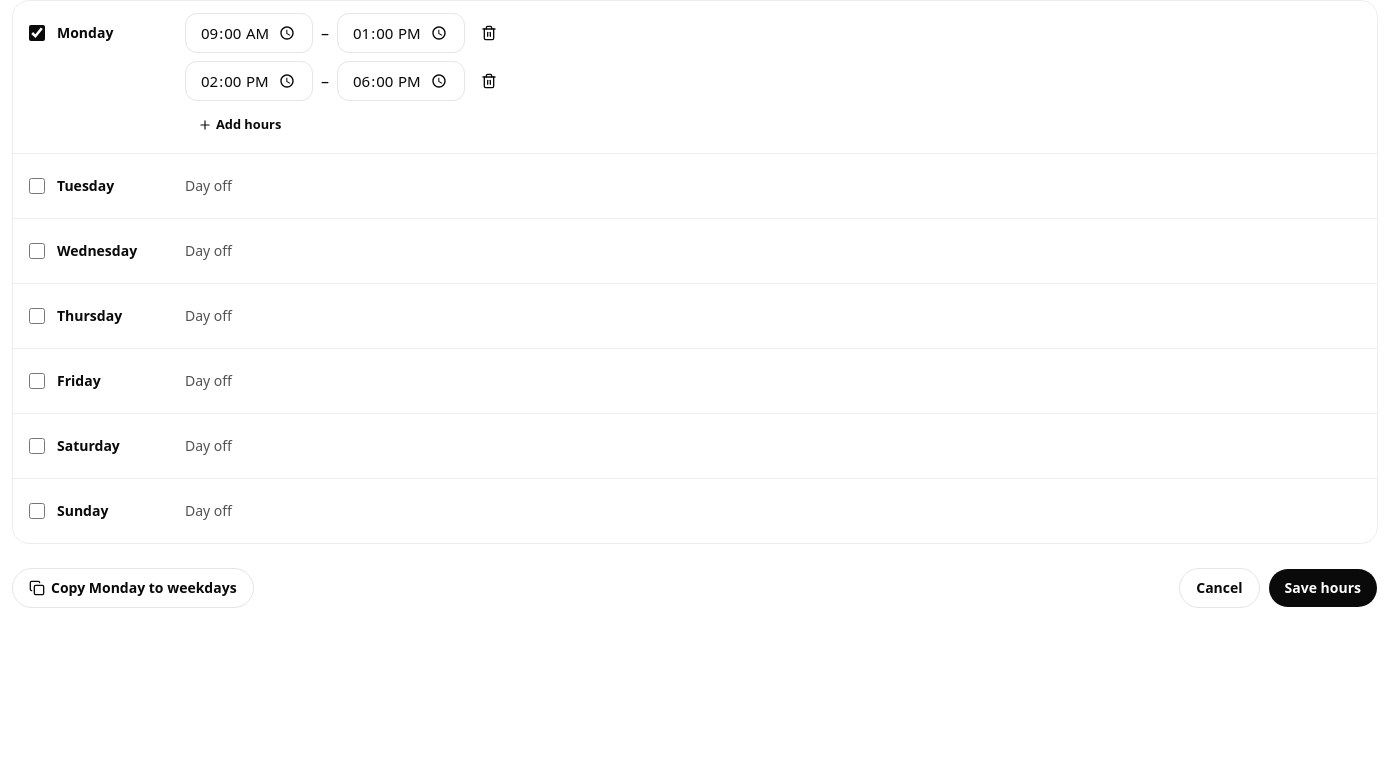
Test: WorkScheduleForm › shows the field message from a 400 response
Click the button "Save hours" at [1323, 588], box [1268,568,1378,608]
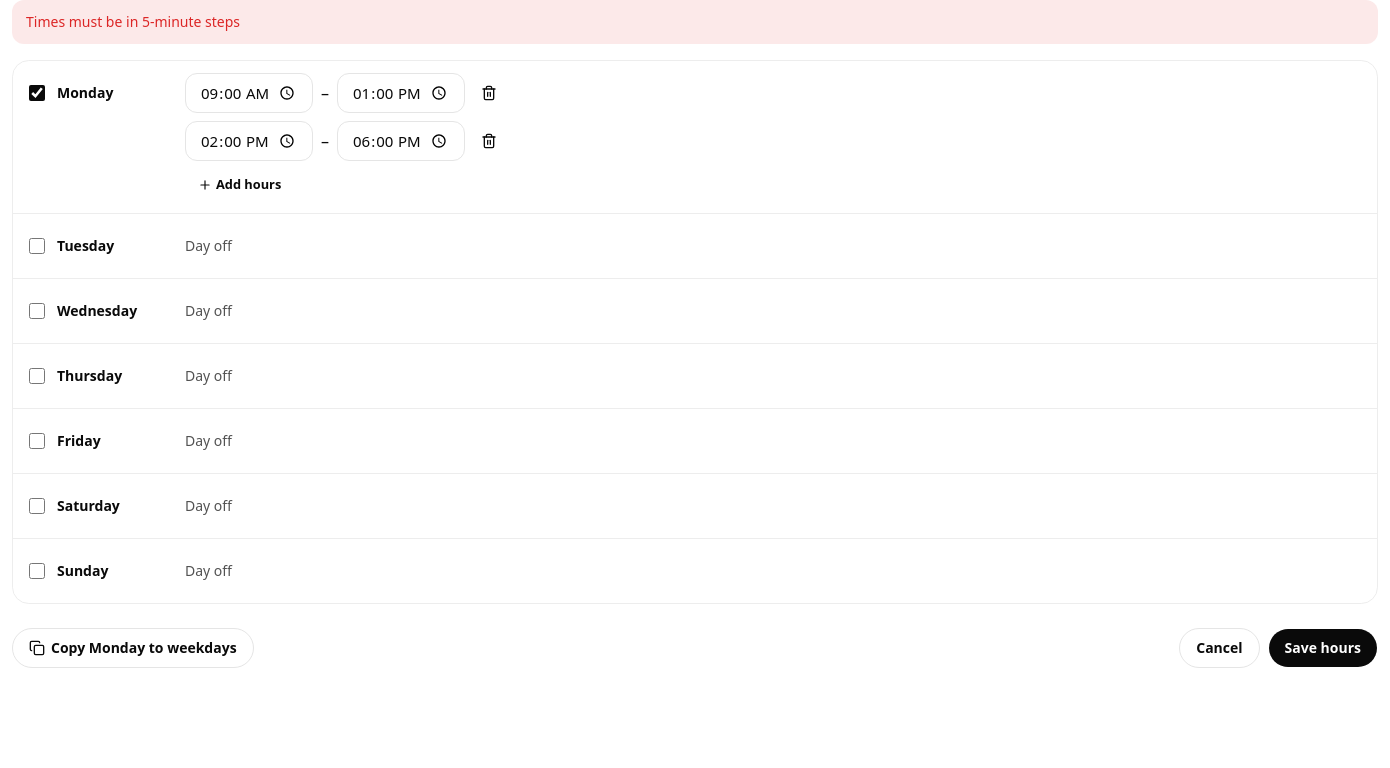
Check: the text "Times must be in 5-minute steps" is shown, box [12,0,1378,44]
